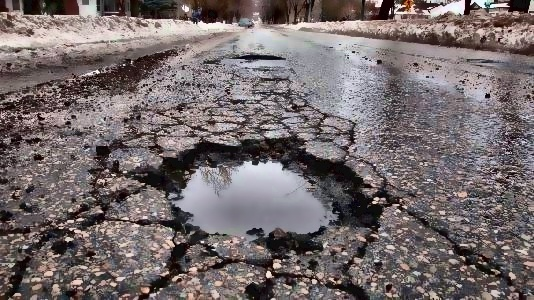pothole: (134, 132, 391, 258), (234, 52, 283, 61)
